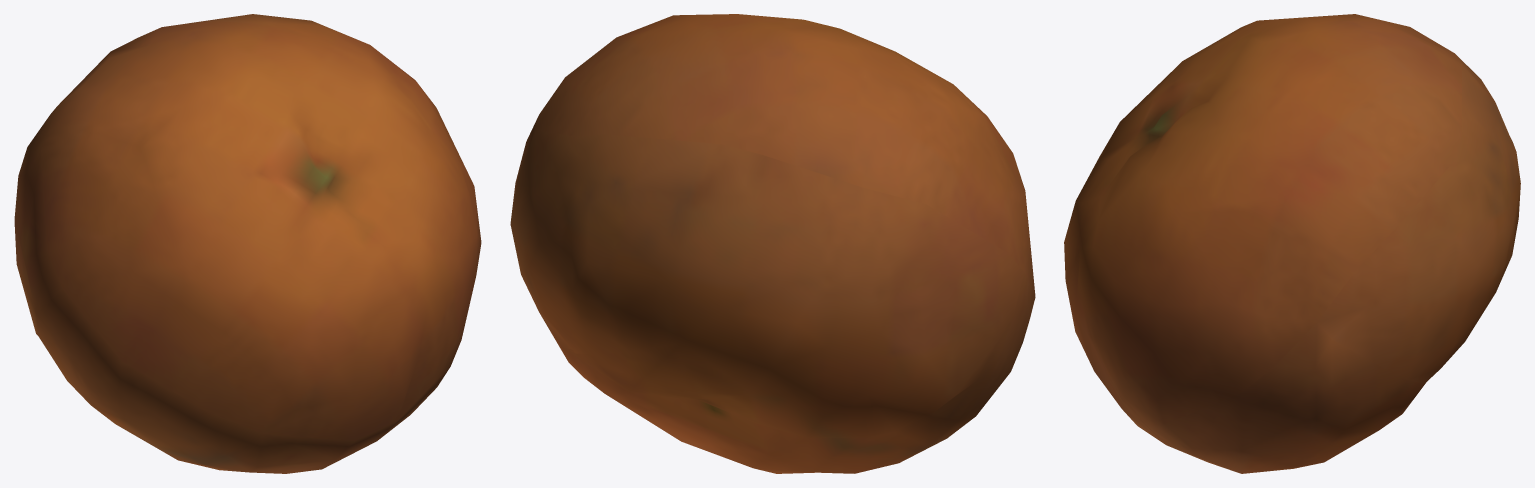
Rendered from ref_orange.fbx.
3 renders of one model, left to right at view 1: azimuth 30°, elevation 25°; view 2: azimuth 150°, elevation 25°; view 3: azimuth 270°, elevation 25°, orthographic. The views are drawn at different scales.
Visible parts, largest first — view 1: ref_orange_part0; view 2: ref_orange_part0; view 3: ref_orange_part0.
Part boxes in pixels (x1,y1,x2,y2): ref_orange_part0: (14, 14, 481, 473); ref_orange_part0: (510, 14, 1035, 473); ref_orange_part0: (1064, 14, 1520, 473).
Size of the model in its own units: 100 by 93.5 by 92.78.
